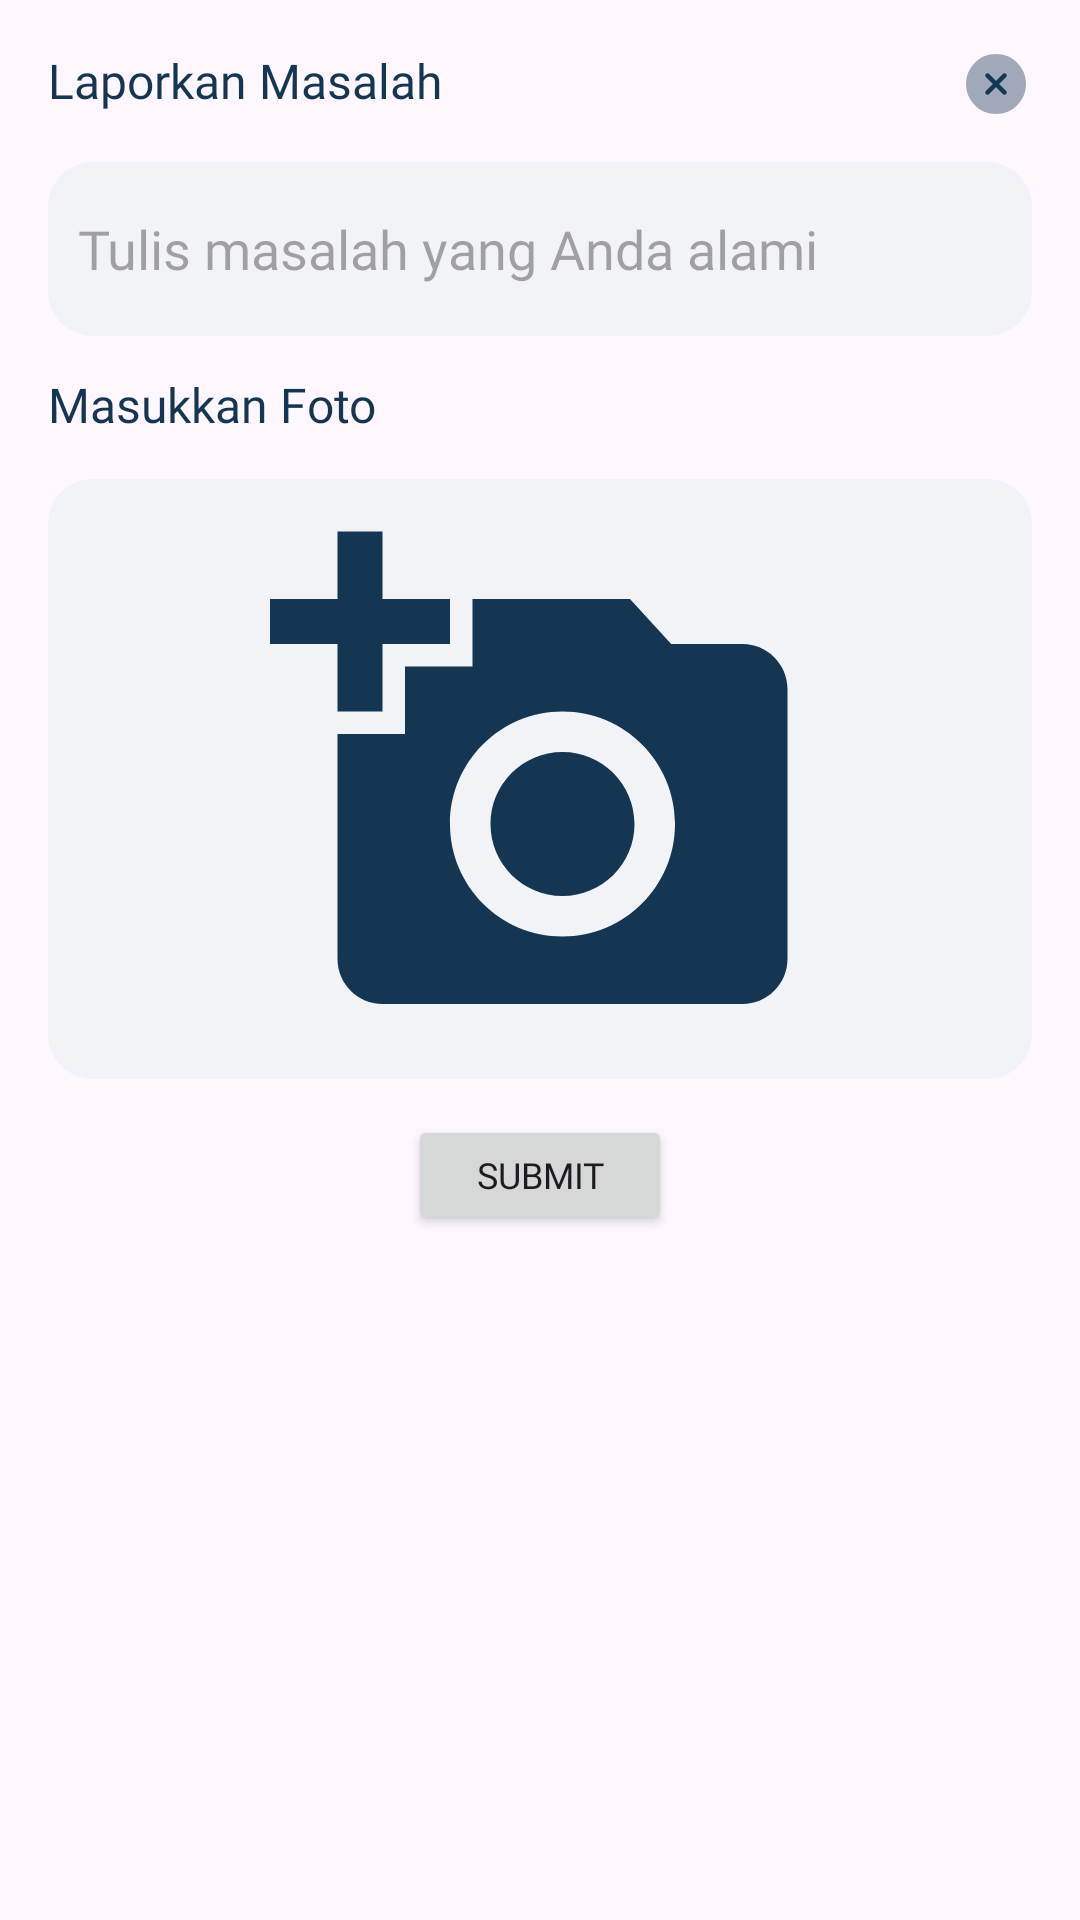

Screen size 1080px×1920px. Icon name, then its box in pixels as (x1, y1, x2, y2):
close: (966, 54, 1026, 114)
